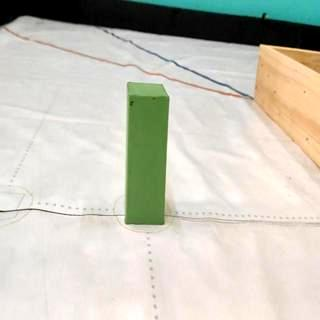greenbox: (124, 80, 170, 224)
